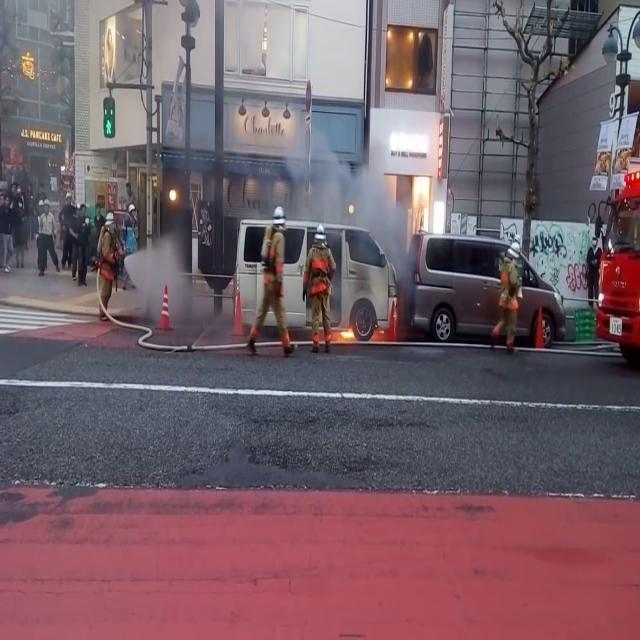Fire: (328, 318, 361, 348)
Smoke: (280, 130, 422, 306), (128, 236, 210, 327)
